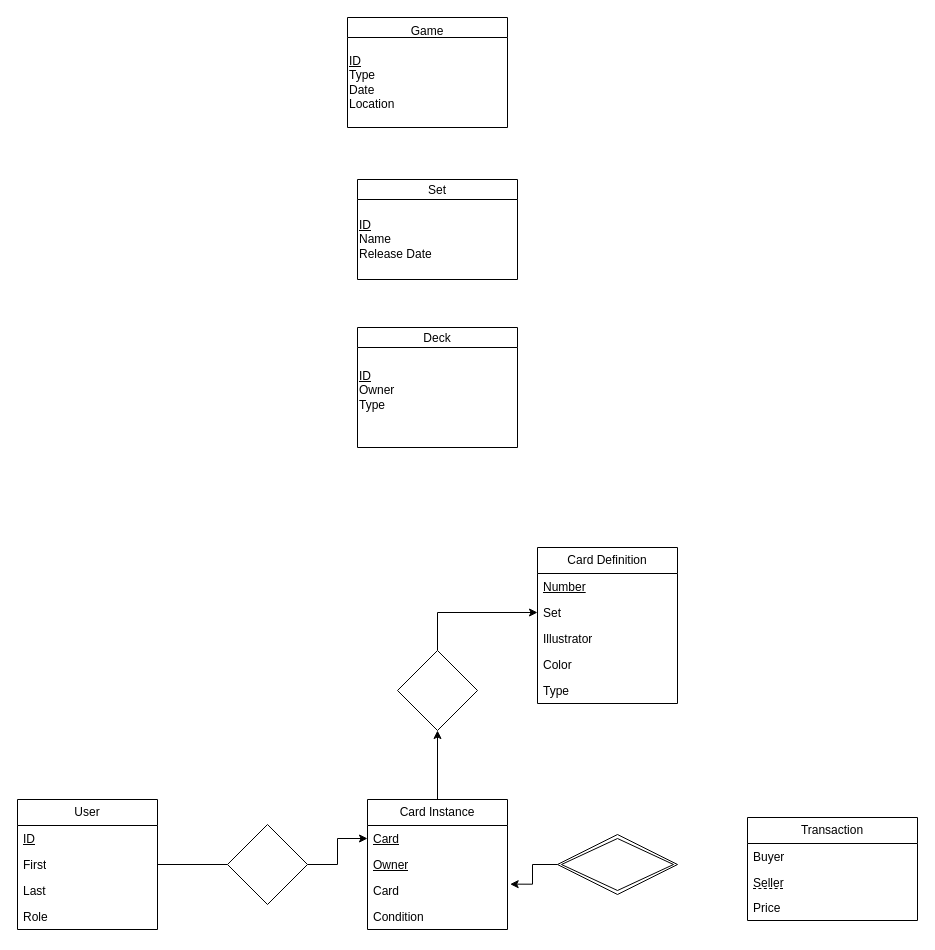
The diagram is 935 pixels wide and 950 high, and some of its shapes have lost their labels. Each missing label, with the centre of its shape:
"card_def_inst" belongs at (x=437, y=690).
"card_inst_trans" belongs at (x=617, y=864).
"owns" belongs at (x=267, y=864).
